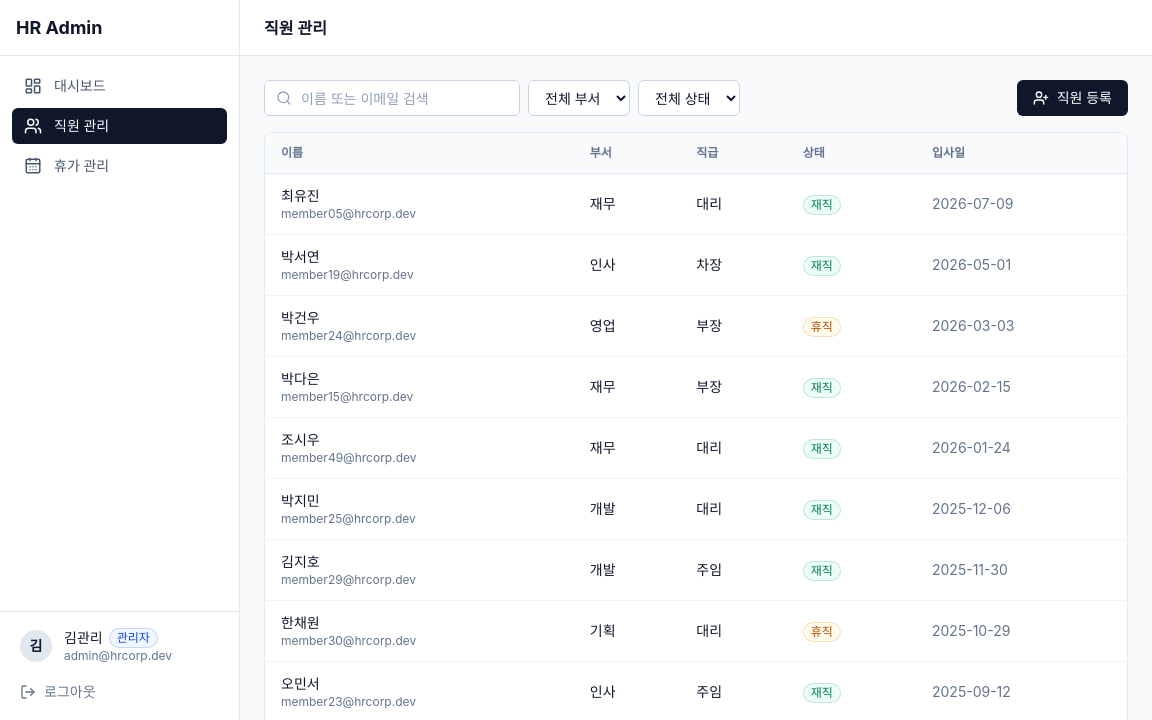
Test: EmployeeListPage › 검색어를 입력하면 디바운스 후 URL에 반영되고 목록이 필터링된다
This screenshot has width=1152, height=720.
Type "member01" into the search field with placeholder "이름 또는 이메일 검색". click: (392, 98)
box: [264,80,520,116]
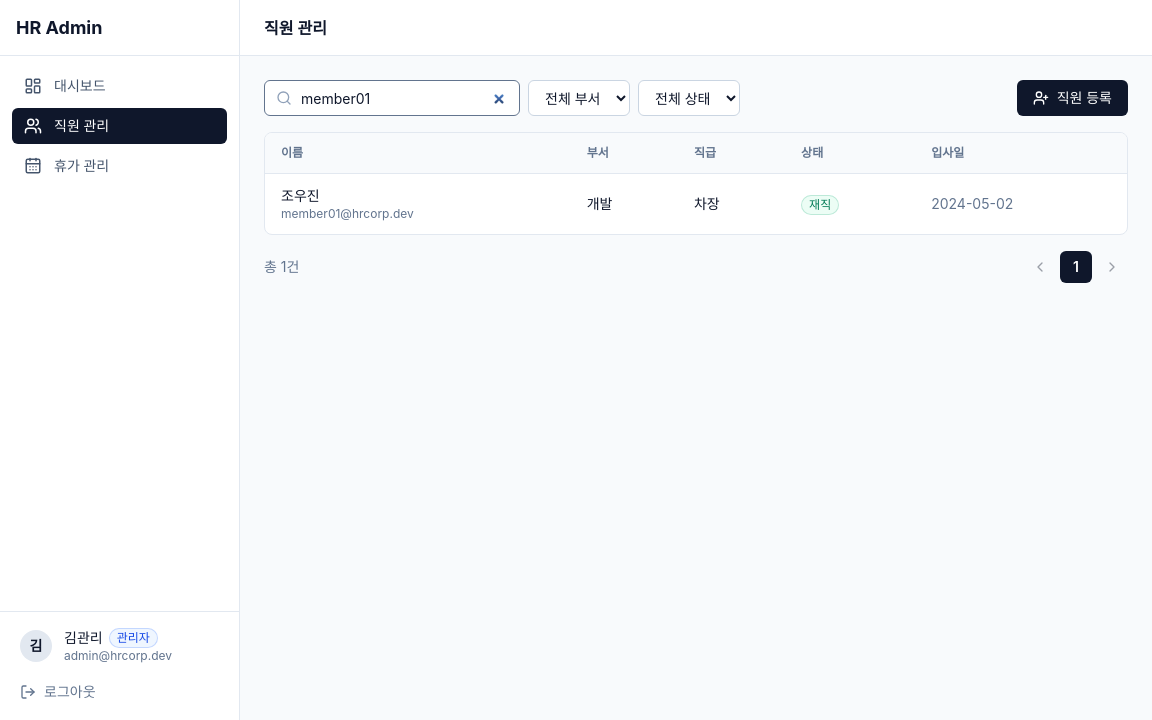
Expected: the text "총 1건" is shown, [264,257,299,277]
